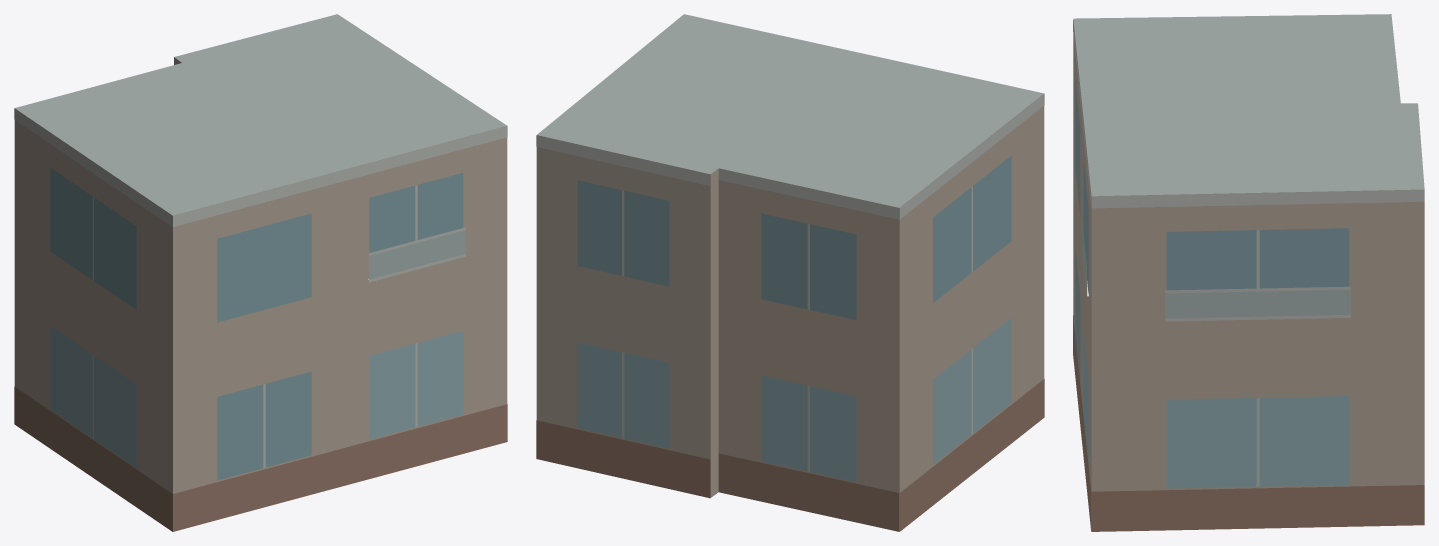
Rendered from survey-upis-32613879.glb.
3 views of the same model, side by side, from view 1: azimuth 30°, elevation 25°; view 2: azimuth 150°, elevation 25°; view 3: azimuth 270°, elevation 25° (orthographic). The views are drawn at different scales.
Visible parts, largest first — view 1: survey-upis-32613879.tmp; view 2: survey-upis-32613879.tmp; view 3: survey-upis-32613879.tmp.
Boxes of the visible parts, x1,y1,x2,y2 form: survey-upis-32613879.tmp: [14, 14, 507, 531]; survey-upis-32613879.tmp: [536, 14, 1044, 531]; survey-upis-32613879.tmp: [1073, 14, 1424, 531].
Bounding box in the file's own units: 7.81 × 6.7 × 6.37.
